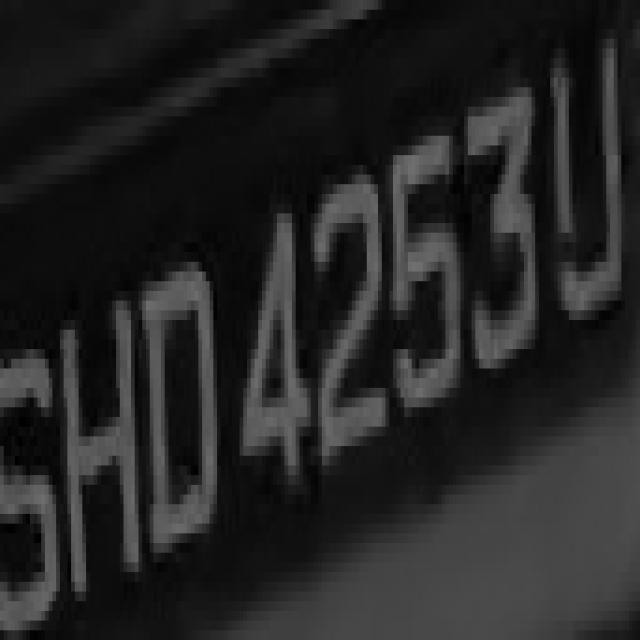2: (303, 145, 397, 485)
3: (446, 78, 536, 417)
4: (220, 175, 310, 494)
5: (371, 107, 464, 446)
D: (135, 233, 221, 601)
H: (56, 281, 139, 611)
U: (535, 0, 632, 339)
